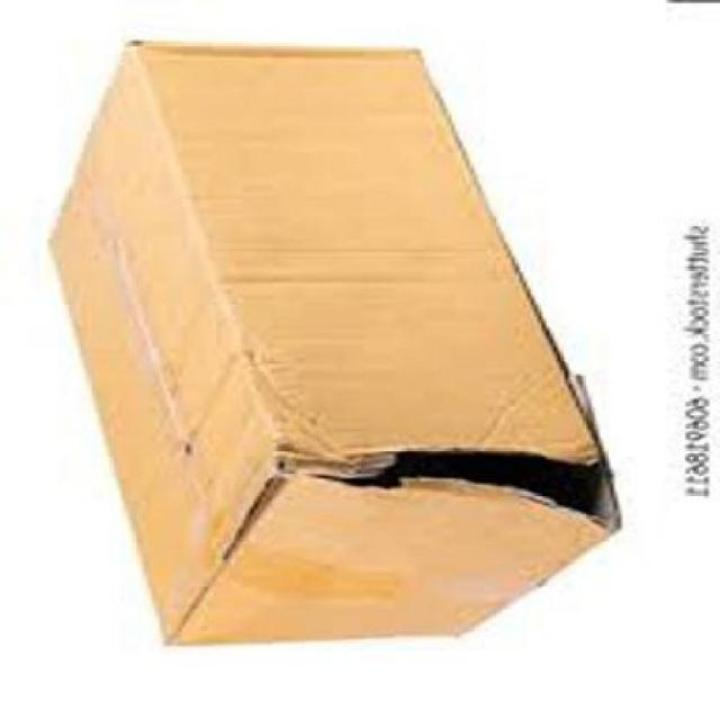box: (37, 26, 628, 659)
